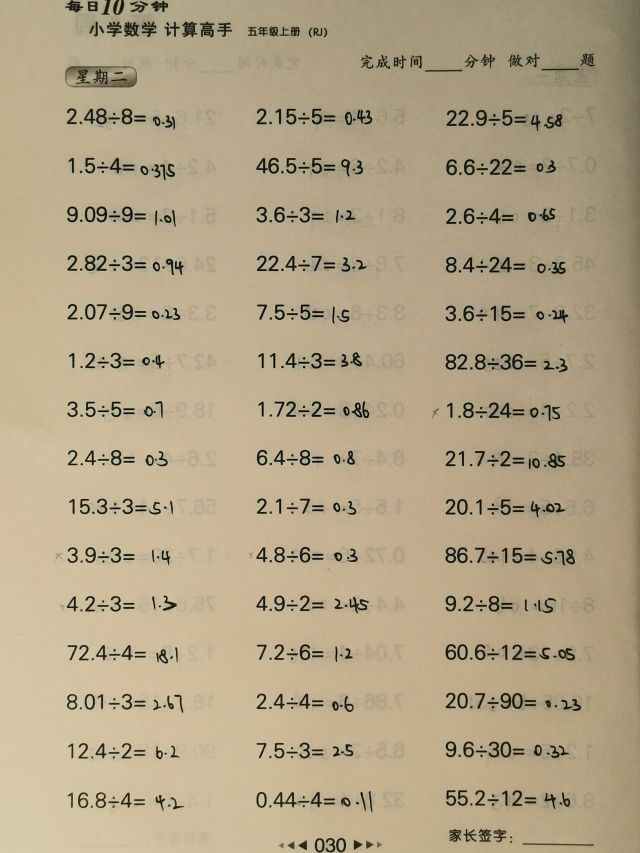equation: (59, 104, 182, 135), (442, 784, 575, 812), (442, 688, 585, 713), (252, 788, 378, 816), (428, 397, 563, 423), (442, 104, 566, 132), (441, 639, 578, 664), (441, 543, 578, 567), (441, 349, 571, 374), (441, 252, 570, 277), (441, 494, 569, 519), (442, 446, 570, 471), (441, 737, 572, 761), (441, 301, 572, 325), (62, 689, 187, 714), (63, 251, 187, 276), (253, 104, 377, 129), (62, 202, 179, 228), (252, 591, 372, 616), (252, 152, 367, 178), (64, 154, 179, 180), (63, 788, 187, 812), (441, 591, 559, 616), (254, 396, 372, 421), (442, 155, 560, 180), (64, 299, 183, 323), (64, 739, 182, 763), (64, 641, 182, 665), (64, 592, 181, 616), (253, 251, 370, 275), (443, 204, 560, 228), (63, 542, 174, 567), (65, 495, 178, 519), (64, 445, 172, 470), (255, 349, 367, 373), (252, 689, 357, 714), (253, 543, 362, 567), (252, 639, 356, 664), (253, 494, 359, 518), (253, 446, 359, 470), (253, 203, 359, 227), (252, 300, 353, 325), (65, 349, 169, 373), (254, 739, 357, 763), (64, 398, 167, 421)
